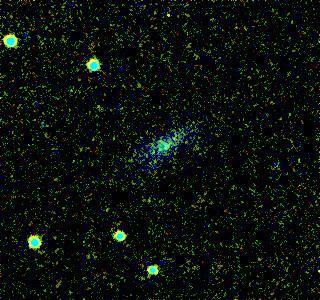star: (85, 91, 115, 121)
